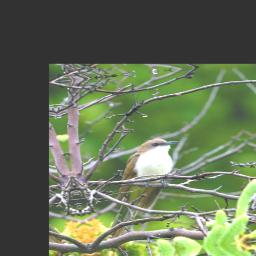Cuckoo: (83, 135, 197, 241)
